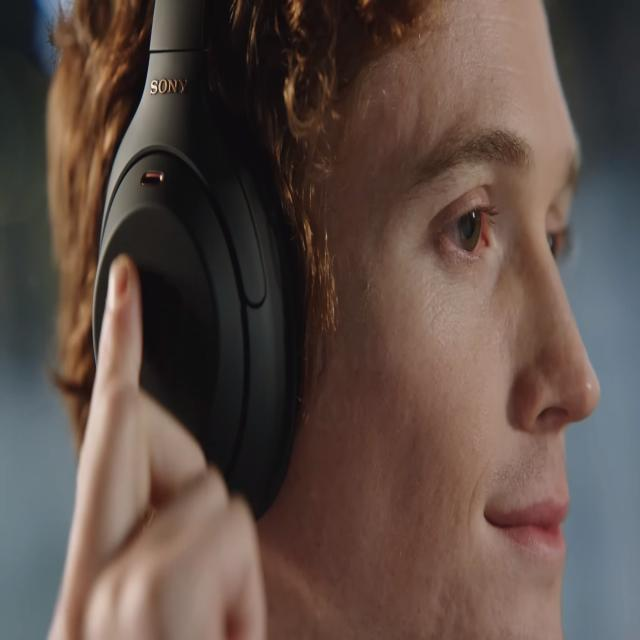Headphone: (91, 0, 301, 524)
